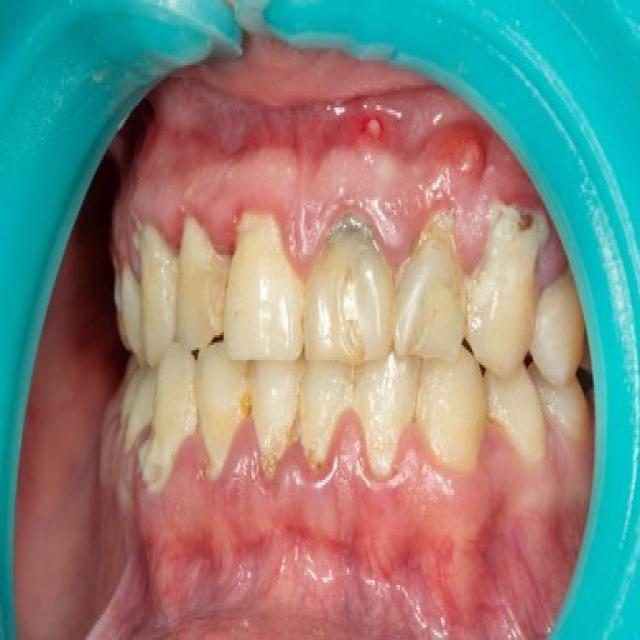abscess: (437, 137, 512, 208)
